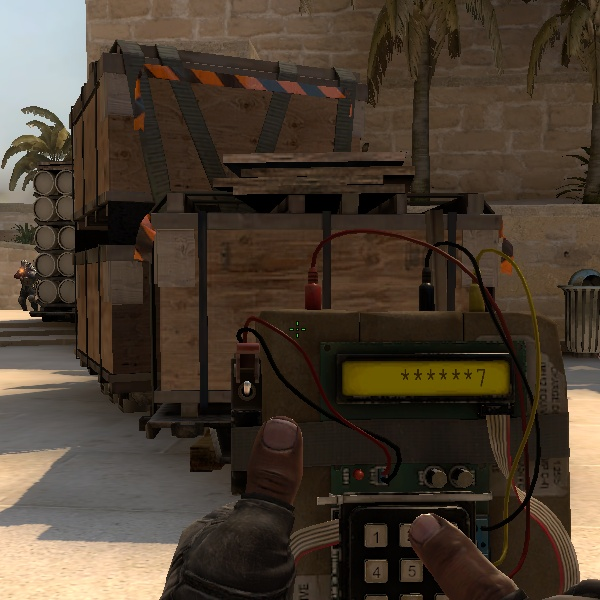t_body: (11, 258, 43, 316)
